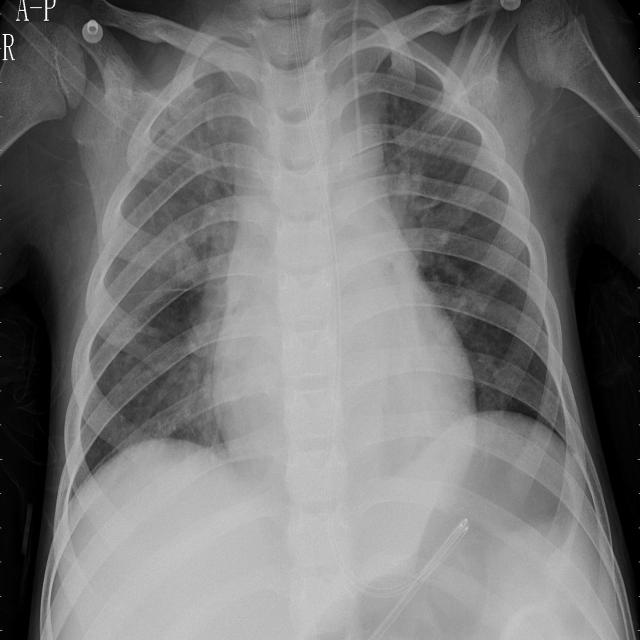low-pneumonia: (164, 195, 231, 435), (187, 78, 261, 199), (389, 157, 442, 273)
